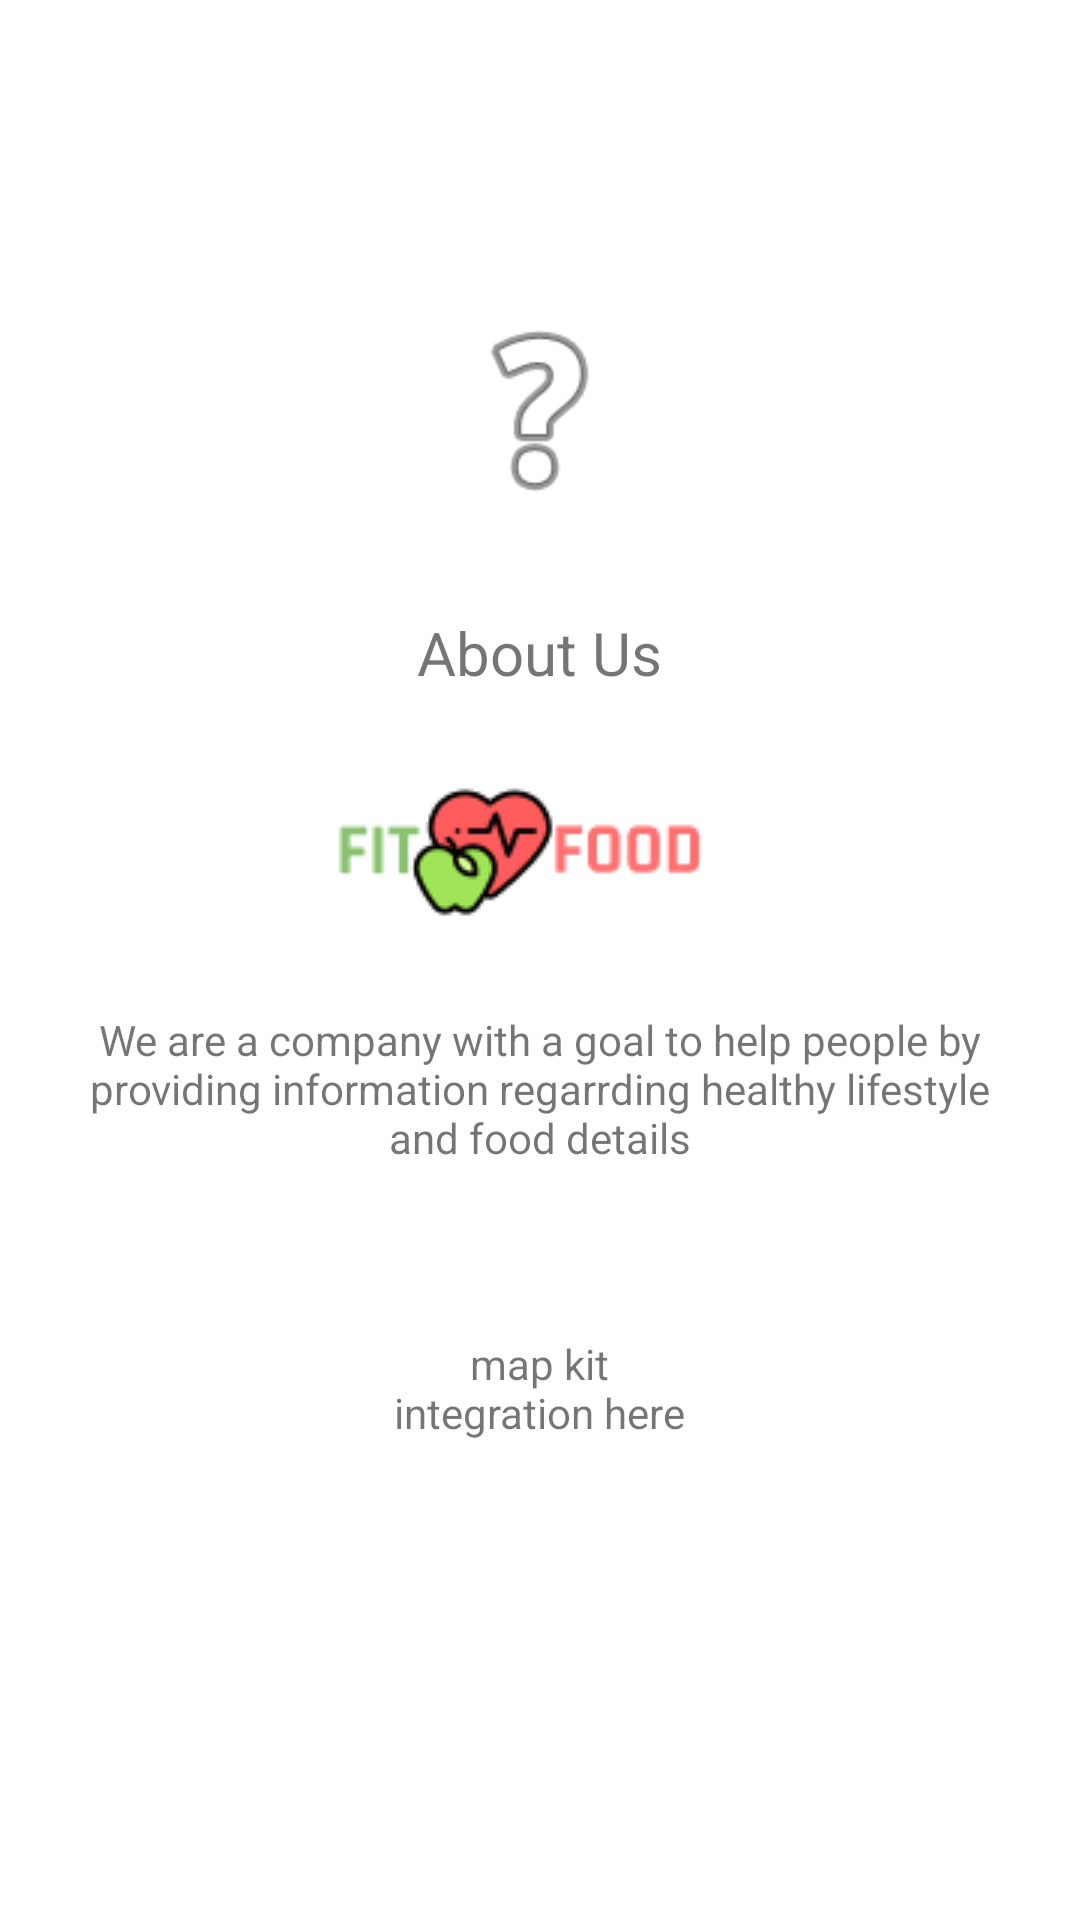

Where icons sit on this 1080x1920 app screen, as (left=x1, top=y1, right=x2, bottom=y2):
help: (left=491, top=331, right=589, bottom=491)
